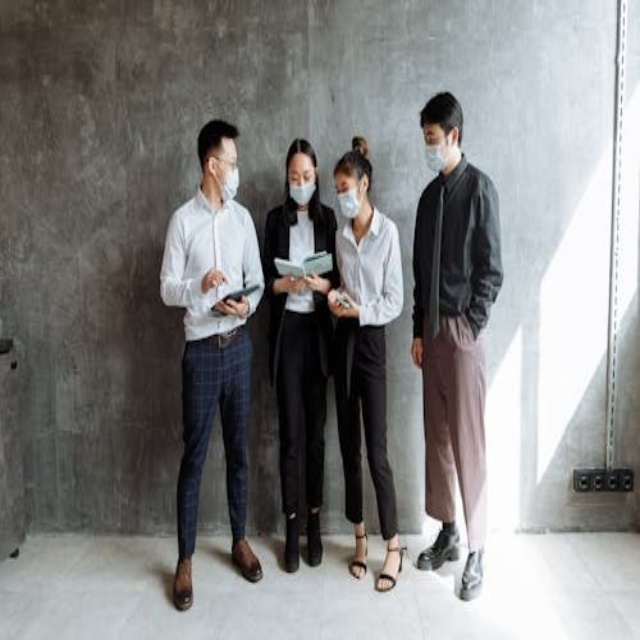Mascara: (213, 161, 239, 202), (425, 136, 453, 173), (336, 184, 362, 219), (288, 176, 317, 207)
Sin_gafas: (288, 165, 315, 185), (221, 150, 243, 169), (334, 179, 353, 198), (420, 127, 440, 144)
Sin_guantes: (404, 332, 425, 373), (198, 261, 227, 290), (328, 289, 356, 317), (305, 267, 325, 300), (214, 296, 243, 317), (287, 279, 306, 297)
